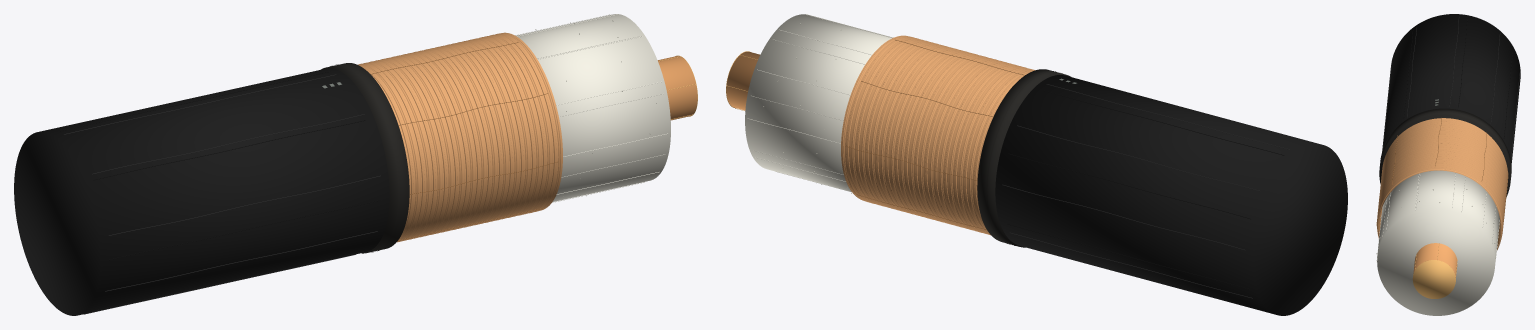
Rendered from rf-ldf6-macro.glb.
The picture shows the model from 3 angles, left to right: view 1: azimuth 30°, elevation 25°; view 2: azimuth 150°, elevation 25°; view 3: azimuth 270°, elevation 25°; orthographic projection. The views are drawn at different scales.
Parts seen in each view (by area): view 1: macro hardline jacket body, annular corrugated solid shield, macro foam dielectric exposed core, hardline jacket cut wall, polished solid center conductor; view 2: macro hardline jacket body, annular corrugated solid shield, macro foam dielectric exposed core, hardline jacket cut wall, polished solid center conductor; view 3: macro foam dielectric exposed core, macro hardline jacket body, annular corrugated solid shield, hardline jacket cut wall, polished conductor cut face glow, polished solid center conductor, rounded jacket cut lip.
Boxes of the visible parts, left/top/right/bottom form: macro hardline jacket body: left=14, top=68, right=389, bottom=315; annular corrugated solid shield: left=358, top=32, right=562, bottom=242; macro foam dielectric exposed core: left=516, top=14, right=670, bottom=201; hardline jacket cut wall: left=321, top=63, right=409, bottom=253; polished solid center conductor: left=657, top=56, right=697, bottom=120; macro hardline jacket body: left=995, top=75, right=1347, bottom=315; annular corrugated solid shield: left=841, top=35, right=1034, bottom=235; macro foam dielectric exposed core: left=745, top=14, right=892, bottom=191; hardline jacket cut wall: left=977, top=69, right=1070, bottom=247; polished solid center conductor: left=726, top=51, right=759, bottom=110; macro foam dielectric exposed core: left=1377, top=170, right=1499, bottom=315; macro hardline jacket body: left=1382, top=14, right=1520, bottom=164; annular corrugated solid shield: left=1377, top=118, right=1507, bottom=250; hardline jacket cut wall: left=1379, top=108, right=1511, bottom=197; polished conductor cut face glow: left=1412, top=260, right=1455, bottom=298; polished solid center conductor: left=1413, top=243, right=1457, bottom=277; rounded jacket cut lip: left=1384, top=111, right=1511, bottom=167.
Bounding box in the file's own units: 28.61 × 7.7 × 8.39.
